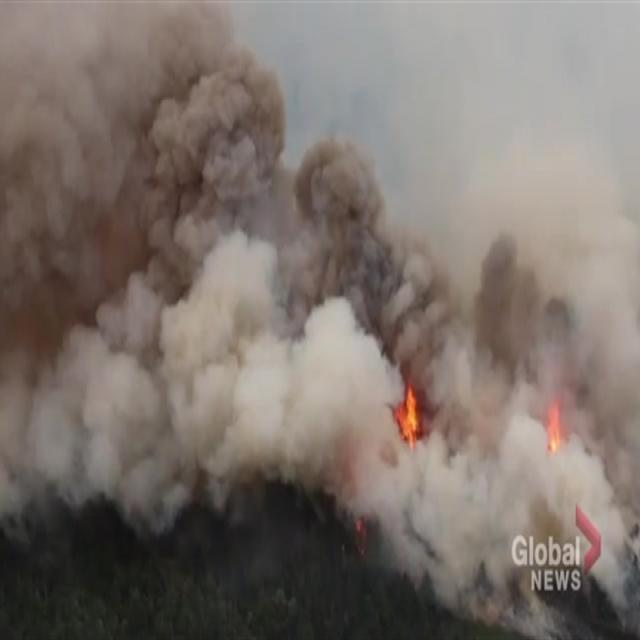Fire: (386, 377, 438, 449)
